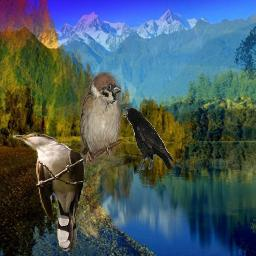Crow: (122, 106, 175, 175)
Cuckoo: (13, 133, 85, 252)
Sparrow: (81, 73, 122, 166)
